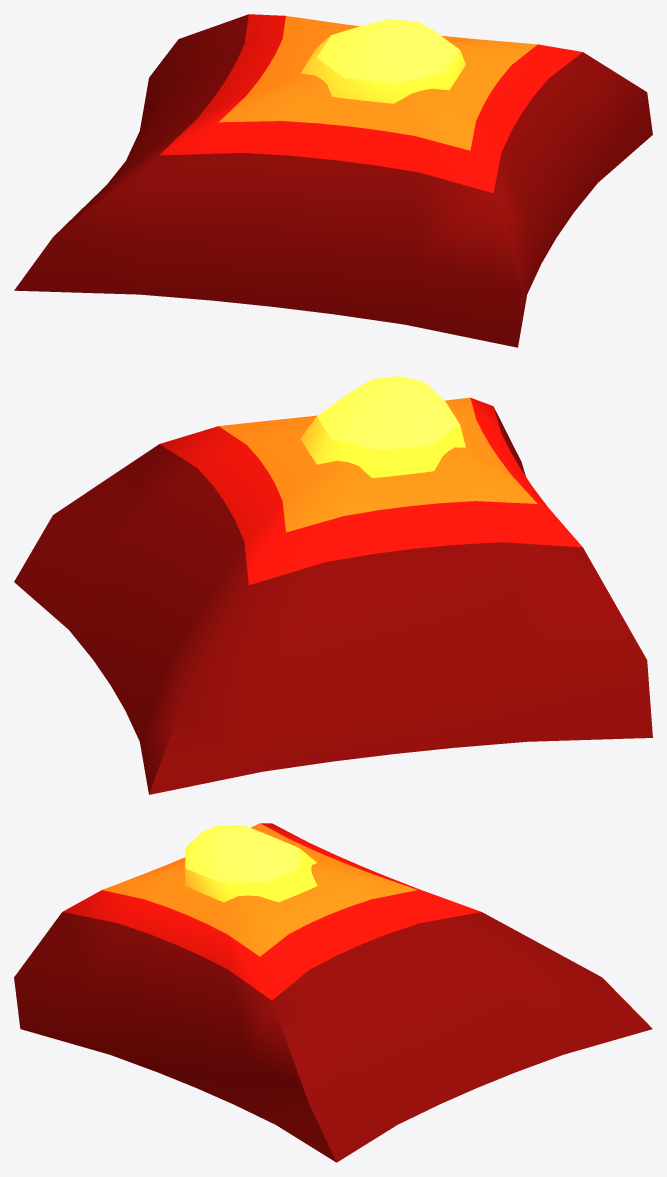
The model's file is shot_eminor_304.glb.
The picture shows the model from 3 angles, top to bottom: view 1: azimuth 30°, elevation 25°; view 2: azimuth 150°, elevation 25°; view 3: azimuth 270°, elevation 25°; orthographic projection. The views are drawn at different scales.
Visible parts, largest first — view 1: shot_eminor_304_fire, shot_eminor_304_heart; view 2: shot_eminor_304_fire, shot_eminor_304_heart; view 3: shot_eminor_304_fire, shot_eminor_304_heart.
Boxes of the visible parts, x1,y1,x2,y2 form: shot_eminor_304_fire: (14, 14, 652, 347); shot_eminor_304_heart: (300, 19, 465, 103); shot_eminor_304_fire: (14, 397, 652, 794); shot_eminor_304_heart: (300, 376, 465, 478); shot_eminor_304_fire: (14, 823, 652, 1162); shot_eminor_304_heart: (185, 825, 317, 902).
Size of the model in its own units: 5.2 by 1.8 by 5.25.
